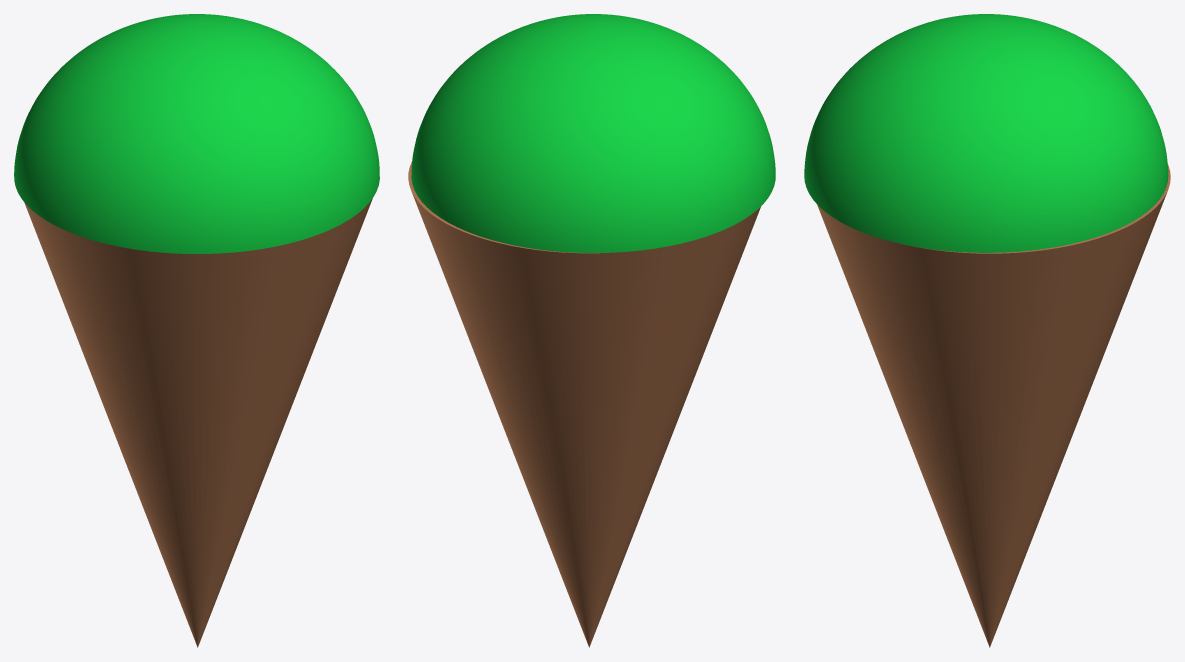
The model's file is icecream.gltf.
3 views of the same model, side by side, from view 1: azimuth 30°, elevation 25°; view 2: azimuth 150°, elevation 25°; view 3: azimuth 270°, elevation 25° (orthographic).
Visible parts, largest first — view 1: root.002, root.001; view 2: root.002, root.001; view 3: root.002, root.001.
Boxes of the visible parts, x1=… form: root.002: x1=14, y1=14, x2=379, y2=253; root.001: x1=24, y1=198, x2=372, y2=647; root.002: x1=411, y1=14, x2=775, y2=252; root.001: x1=408, y1=162, x2=760, y2=647; root.002: x1=804, y1=14, x2=1168, y2=252; root.001: x1=817, y1=164, x2=1170, y2=647.
Bounding box in the file's own units: 1.37 × 2.54 × 1.38.
2 materials, 2 textured.
